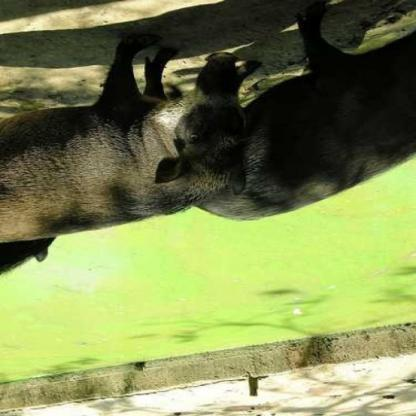boar: (0, 46, 264, 293), (185, 63, 411, 268)
